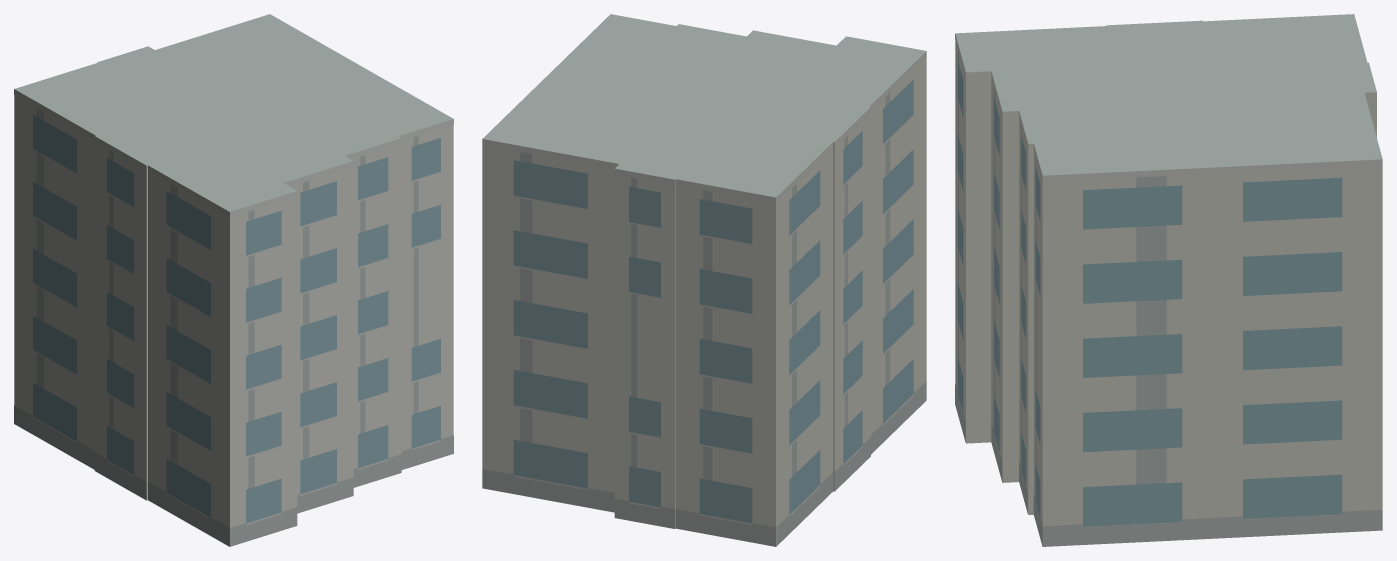
Rendered from survey-upis-32582070.glb.
The picture shows the model from 3 angles, left to right: view 1: azimuth 30°, elevation 25°; view 2: azimuth 150°, elevation 25°; view 3: azimuth 270°, elevation 25°; orthographic projection. The views are drawn at different scales.
Parts seen in each view (by area): view 1: survey-upis-32582070.tmp; view 2: survey-upis-32582070.tmp; view 3: survey-upis-32582070.tmp.
Part boxes in pixels (x1,y1,x2,y2): survey-upis-32582070.tmp: (14,14,453,546); survey-upis-32582070.tmp: (482,14,926,546); survey-upis-32582070.tmp: (955,14,1382,546).
Size of the model in its own units: 13.47 by 14.4 by 15.04.
